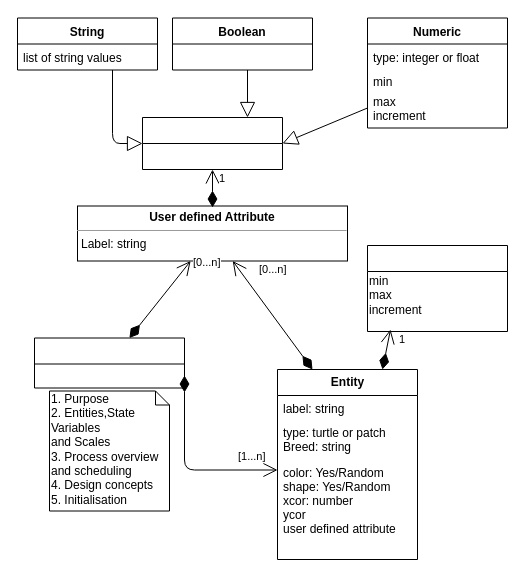
This 525x579 diagram has some shape labels left out. The shapes that lost their labels are listed below. From the top down, each one's box as (x1, y1, x2, y2) in pixels, then its label:
(142, 116, 282, 170): Type
(366, 244, 508, 332): Number
(34, 337, 184, 388): ODD
